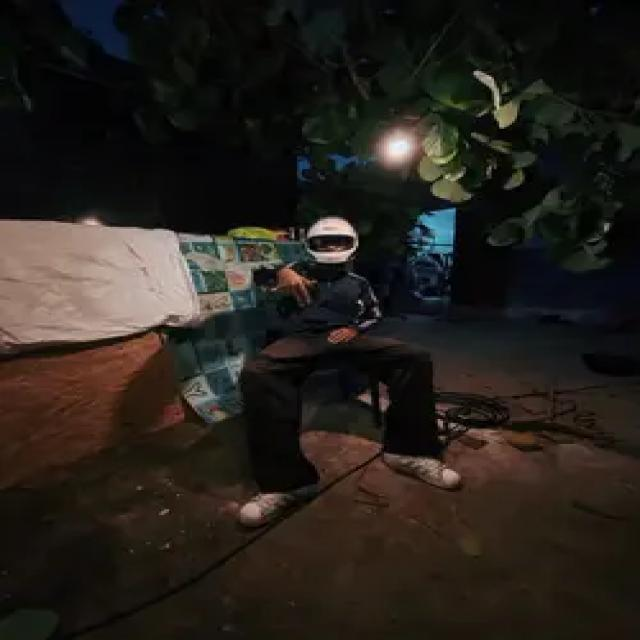helmet: (301, 213, 366, 269)
